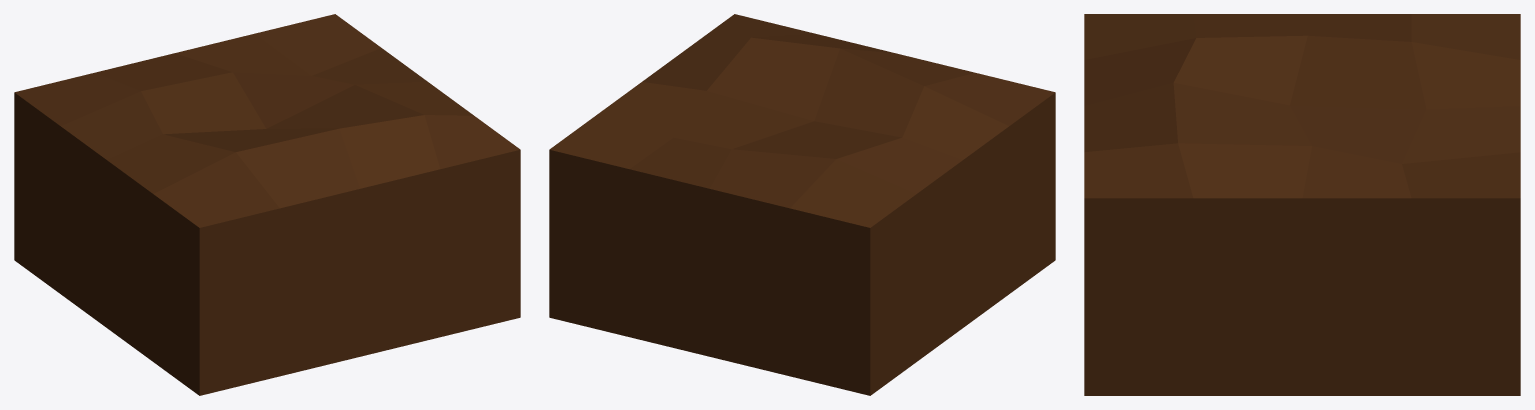
Rendered from S_FarmBlock_3.fbx.
The picture shows the model from 3 angles, left to right: view 1: azimuth 30°, elevation 25°; view 2: azimuth 150°, elevation 25°; view 3: azimuth 270°, elevation 25°; orthographic projection. The views are drawn at different scales.
Parts seen in each view (by area): view 1: FarmBlock_square_v1; view 2: FarmBlock_square_v1; view 3: FarmBlock_square_v1.
Part boxes in pixels (x1,y1,x2,y2): FarmBlock_square_v1: (14, 14, 520, 395); FarmBlock_square_v1: (549, 14, 1055, 395); FarmBlock_square_v1: (1084, 14, 1520, 395).
Bounding box in the file's own units: 400 × 234 × 400.
